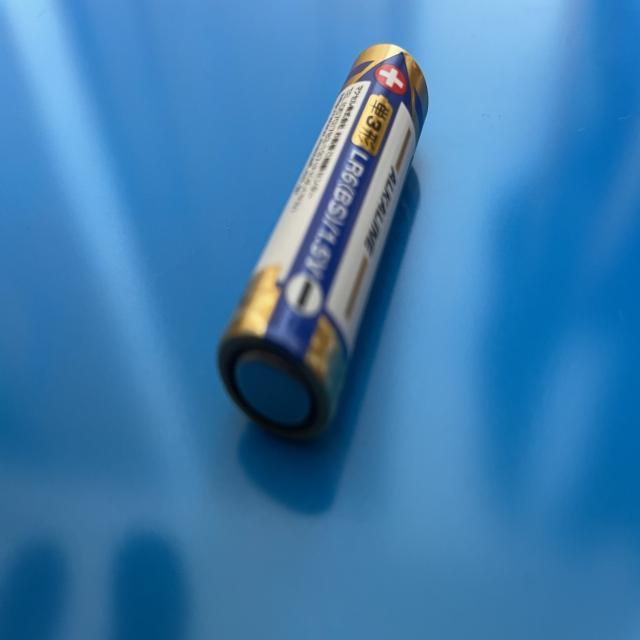AA: (218, 41, 428, 473)
